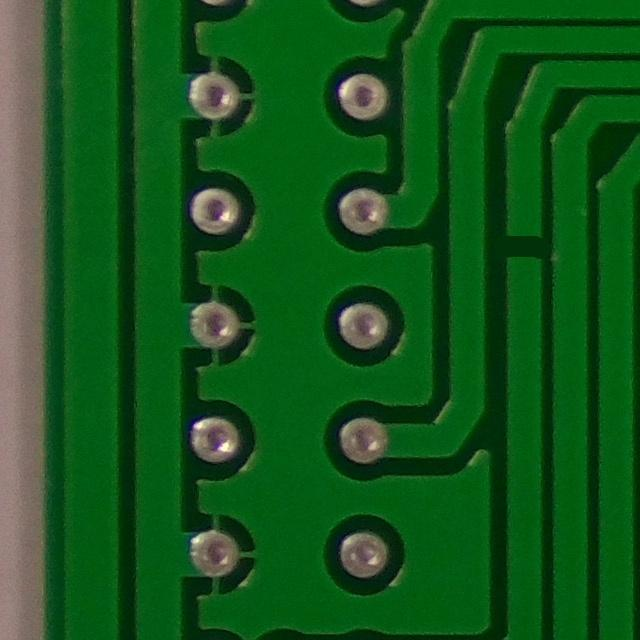open_circuit: (495, 219, 553, 271)
